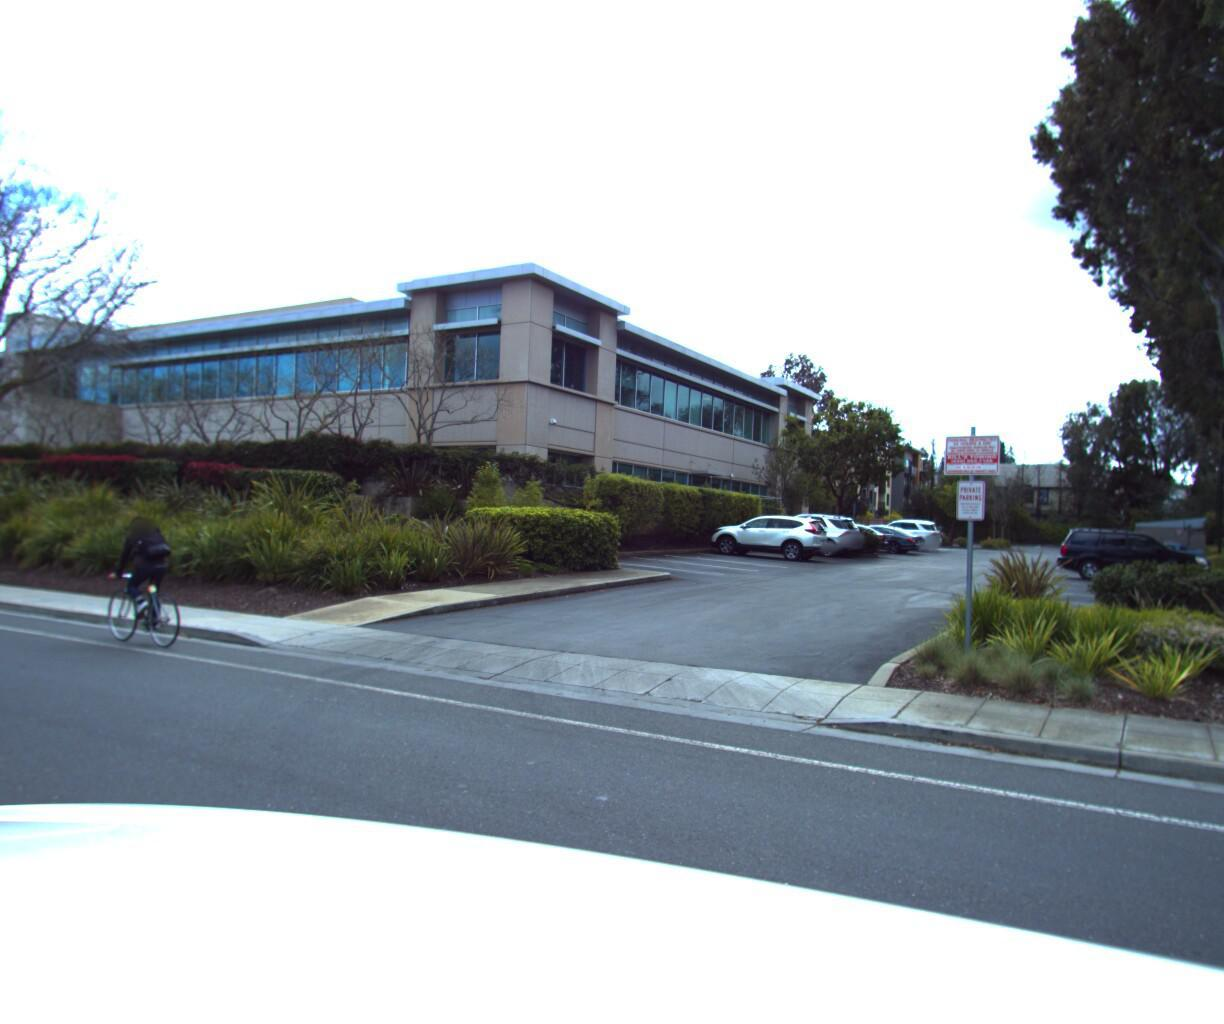bicycle: (61, 502, 220, 662)
